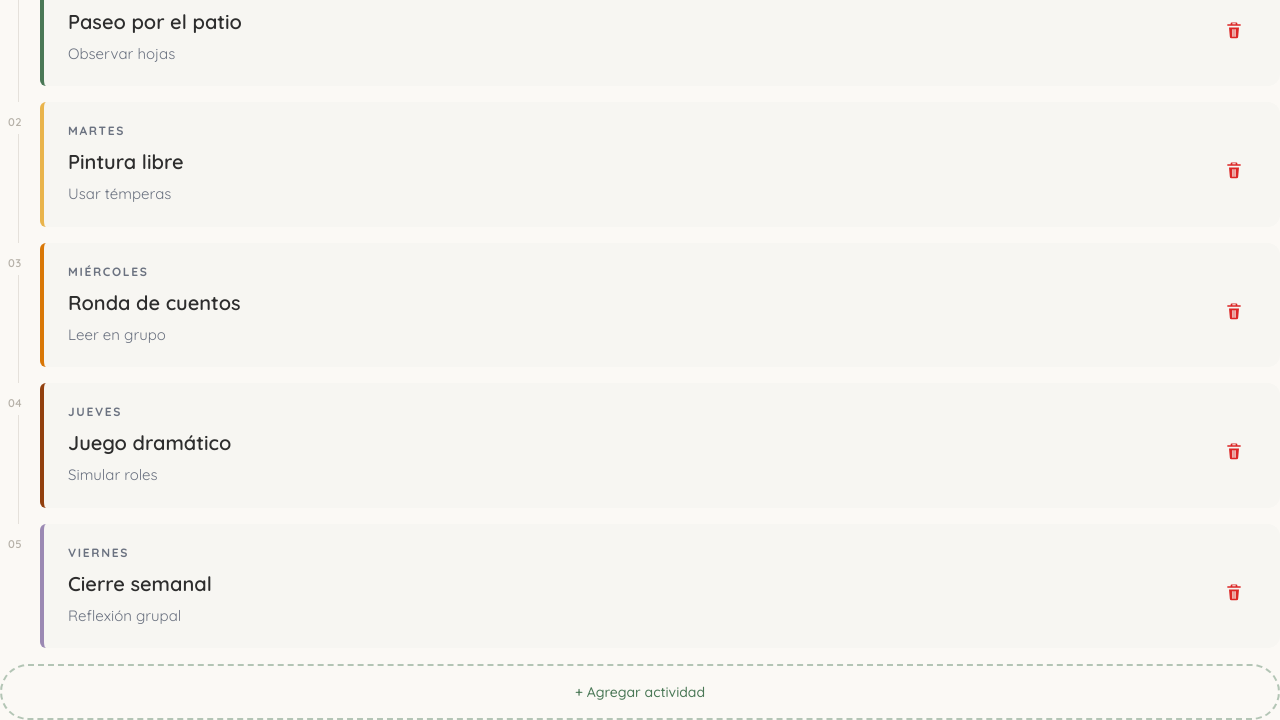
it: ActividadesTab › abre el formulario al presionar el botón y lo cierra al cancelar
(page scrolled)
Click the button "+ Agregar actividad". click: (640, 692)
box: [0,664,1279,719]
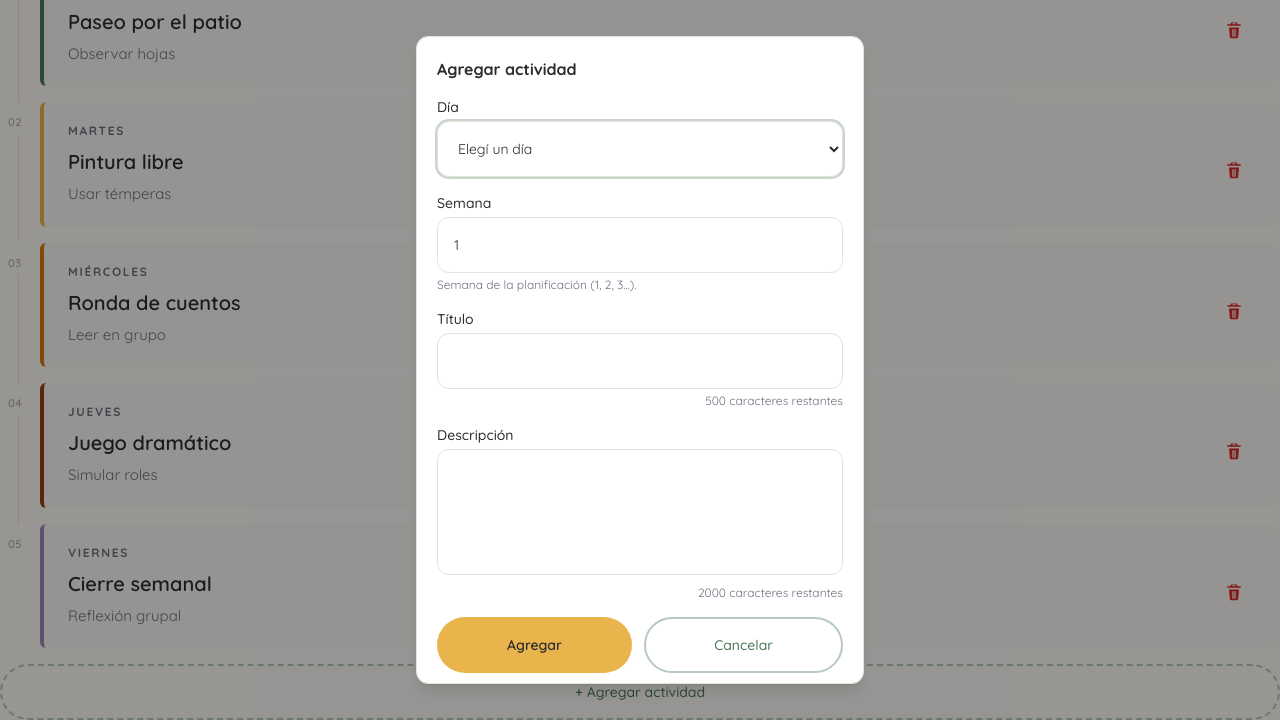
Now the dialog is shown, box [416,36,864,684]
Click the button "Cancelar". click: (744, 645)
box: [644,617,843,673]
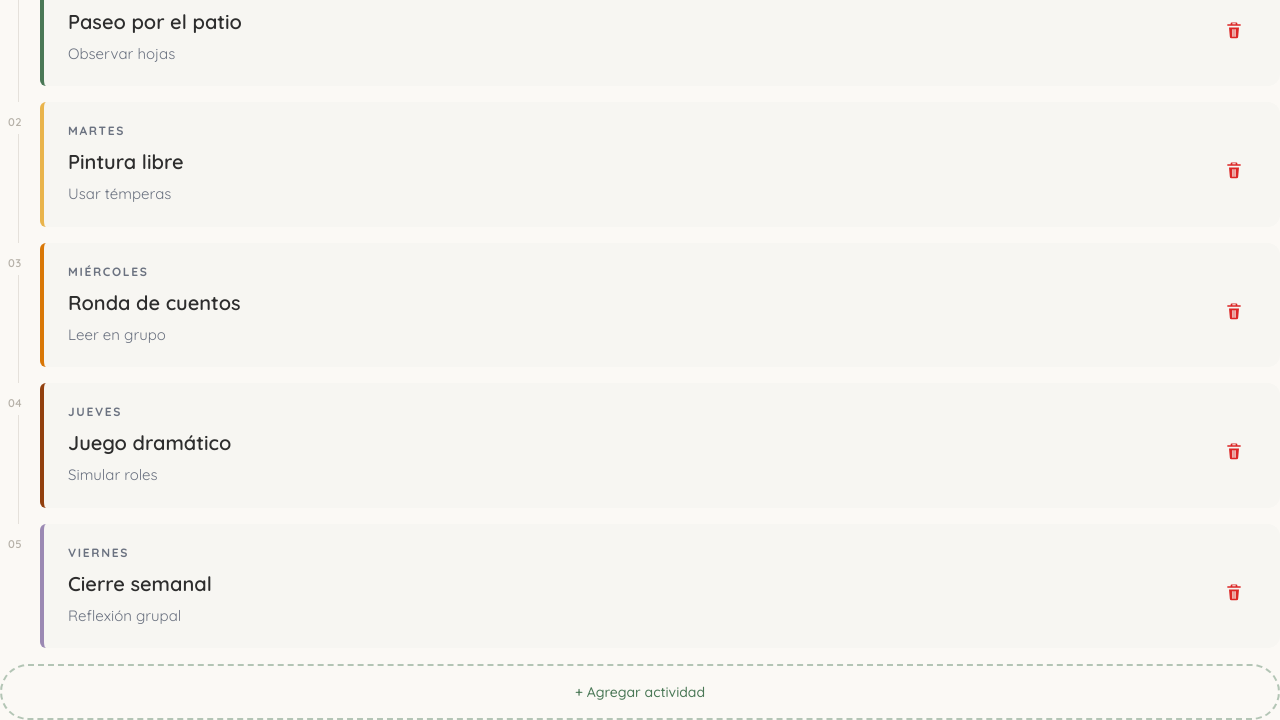
Now the dialog is gone
